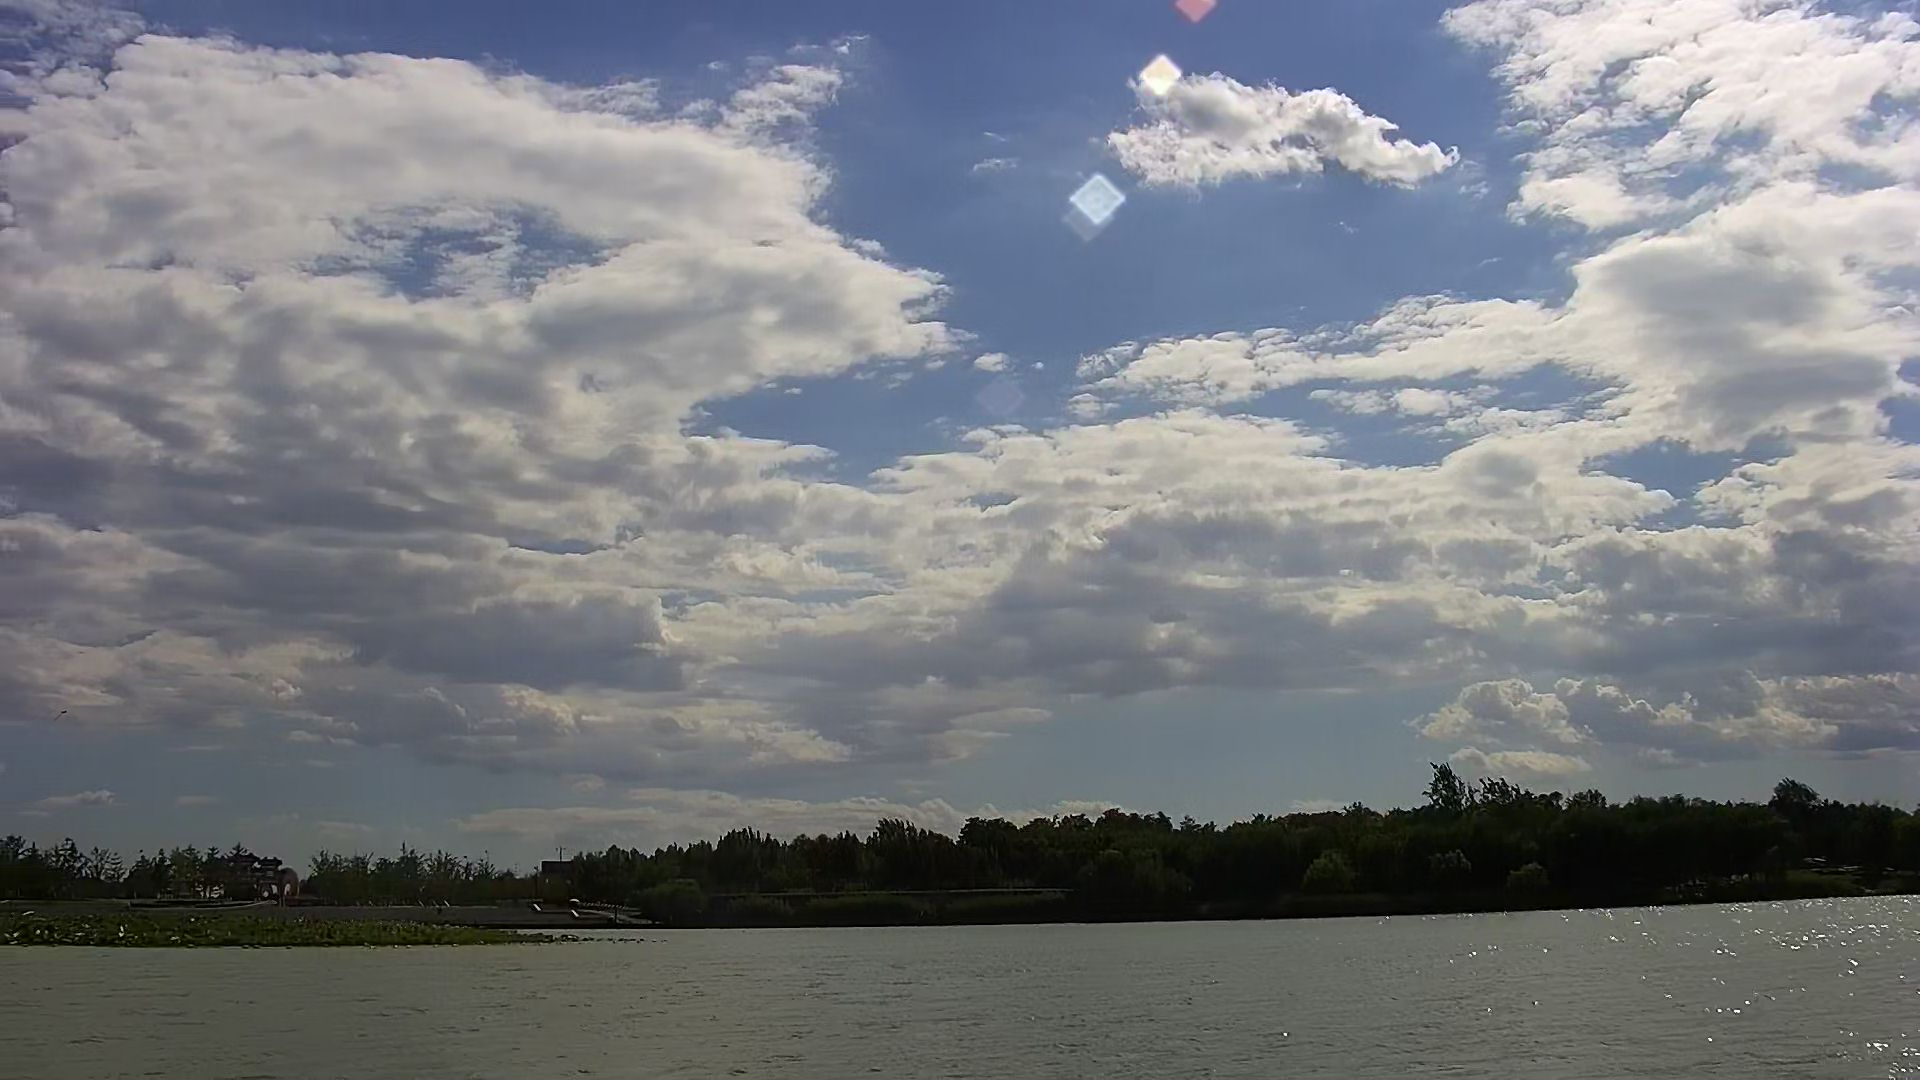harbor: (330, 901, 659, 932)
